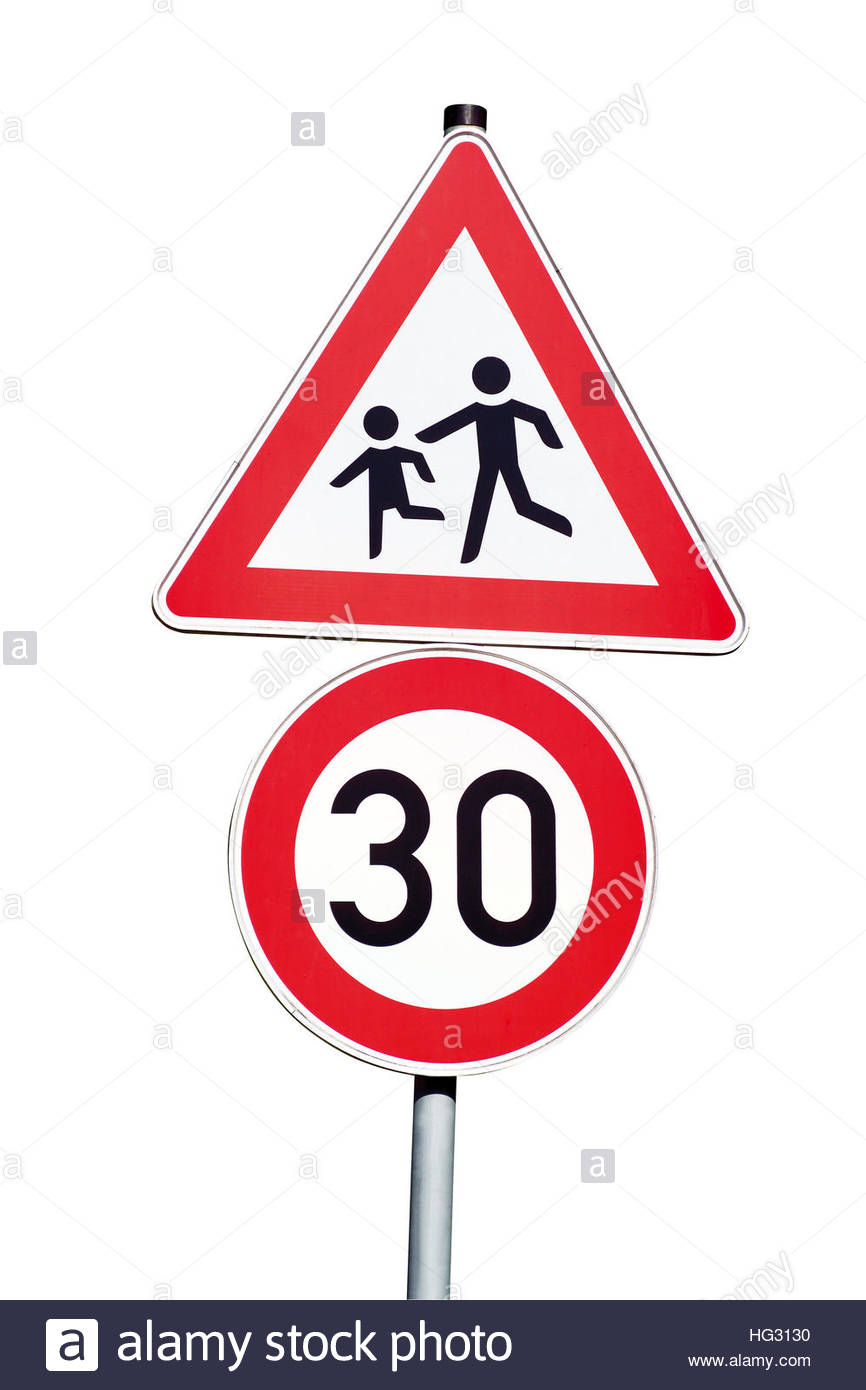Speed_limit_30km: (227, 652, 658, 1074)
